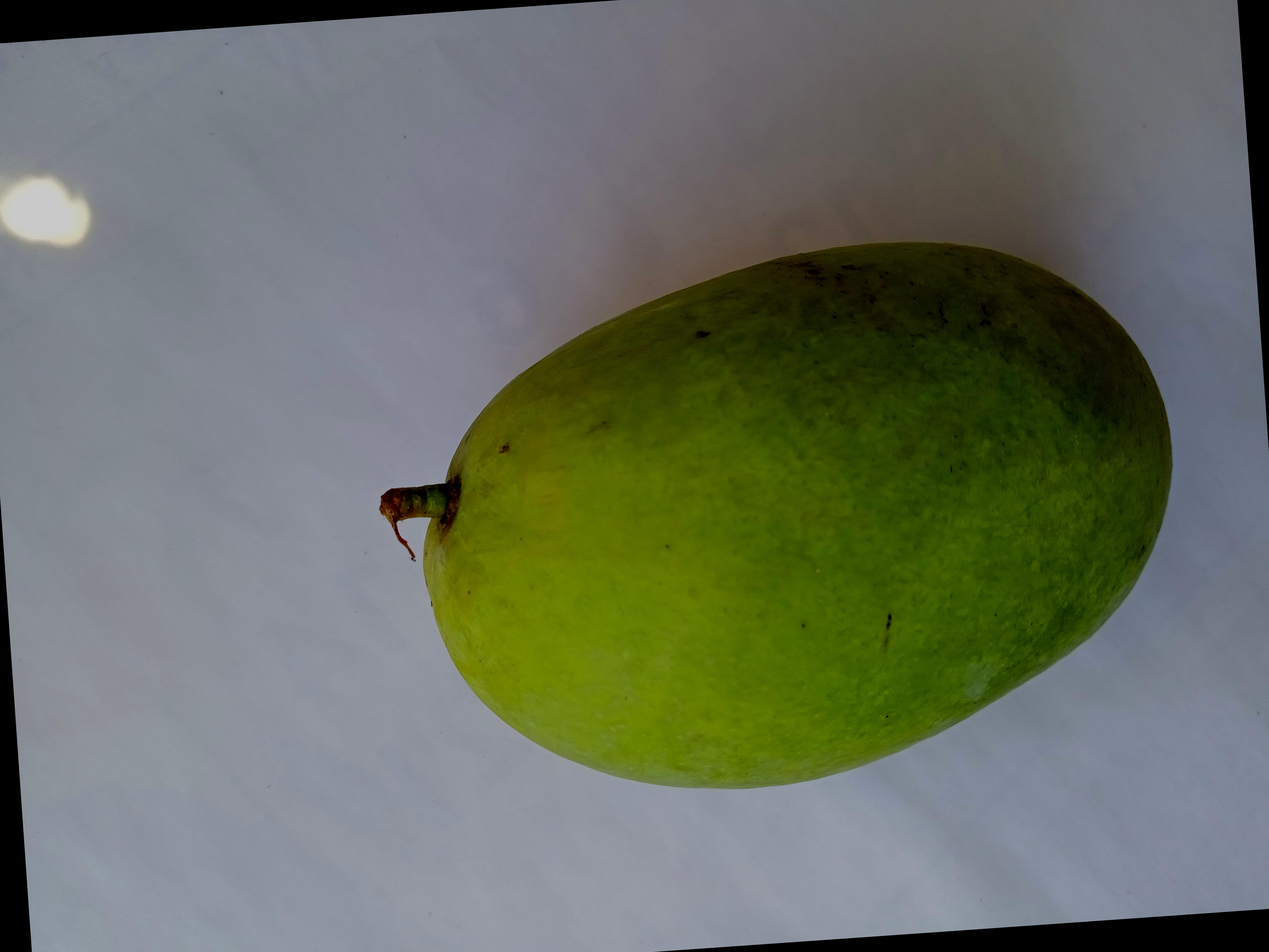Mango Unripe: (273, 233, 1182, 917)
